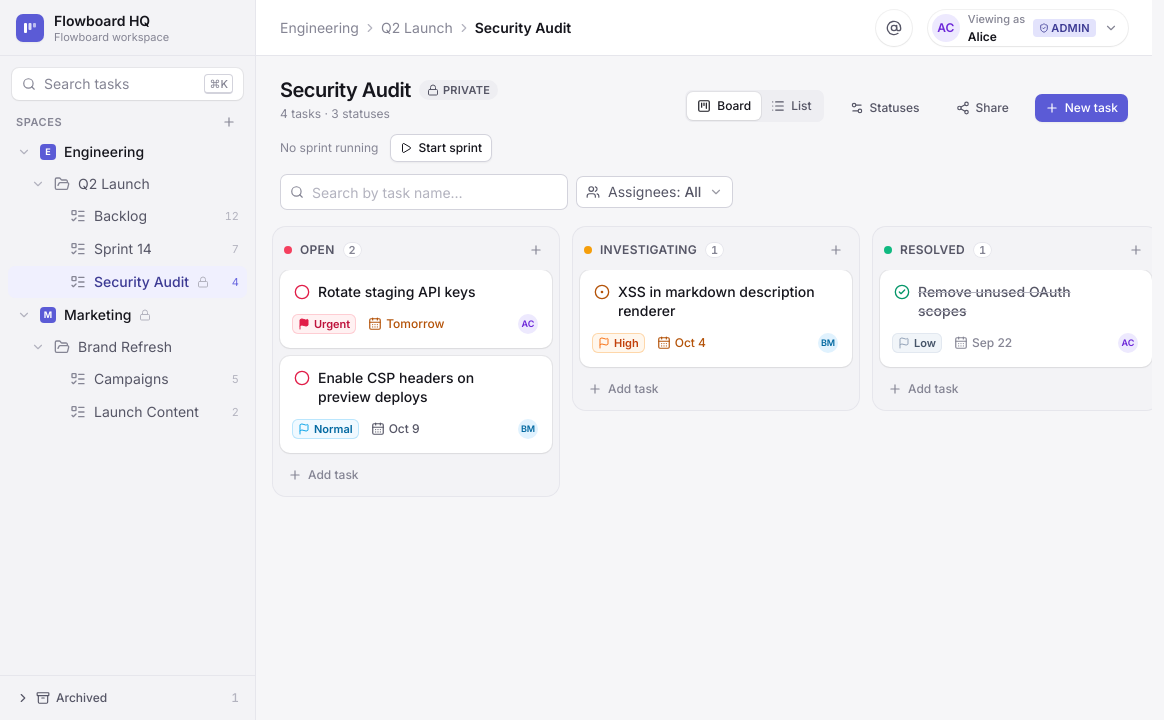
App — board, list and drawer › quick-adds a task into a column
Click the button "Add task" below "Resolved" at (933, 388), box x1=880 y1=374 x2=1152 y2=402
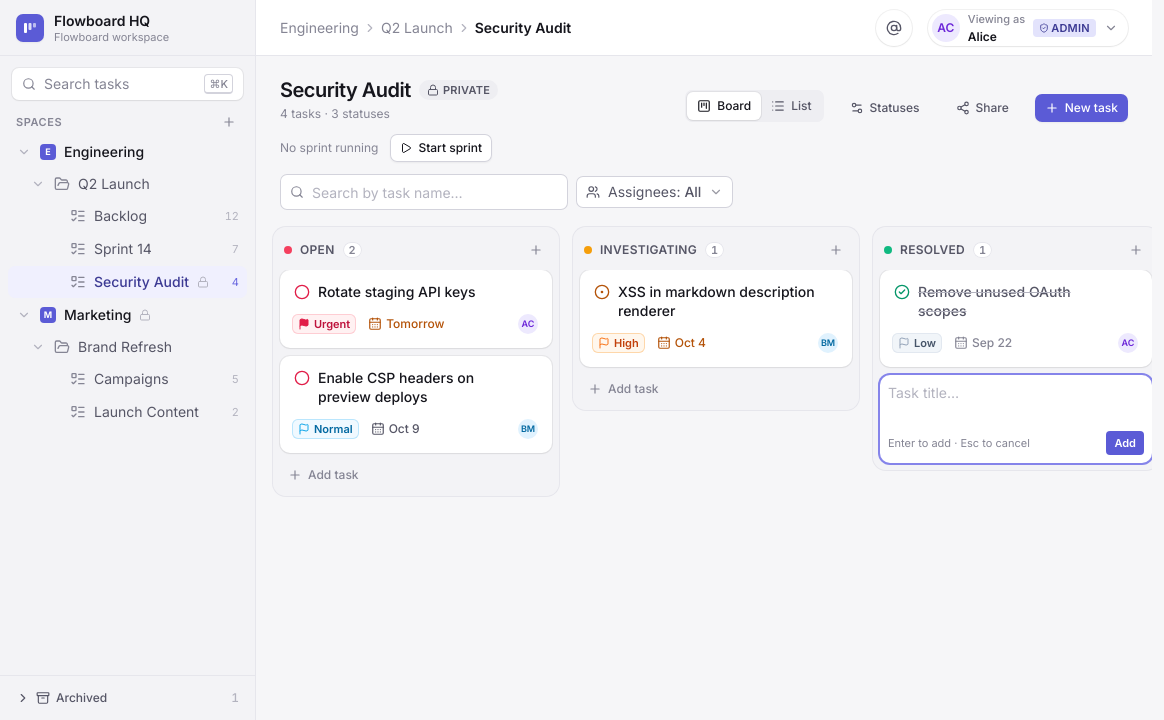
Type "Pen-test report" into the text box named "New task title" at (1016, 402), box x1=888 y1=382 x2=1144 y2=421
Then press Enter
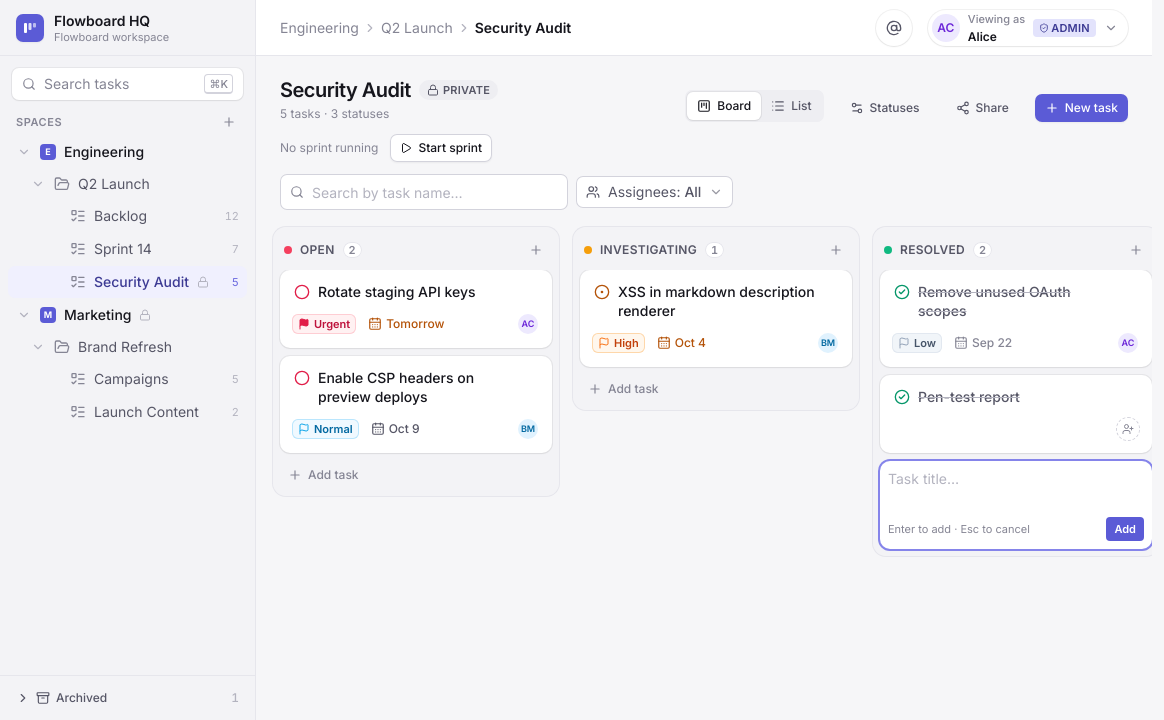
Expected: the button "Pen-test report" is shown, x1=880 y1=374 x2=1152 y2=452
